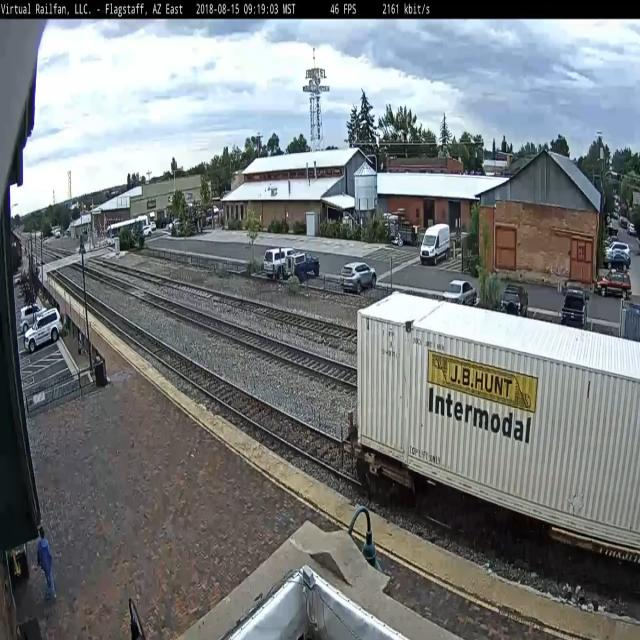container: (348, 273, 640, 569)
